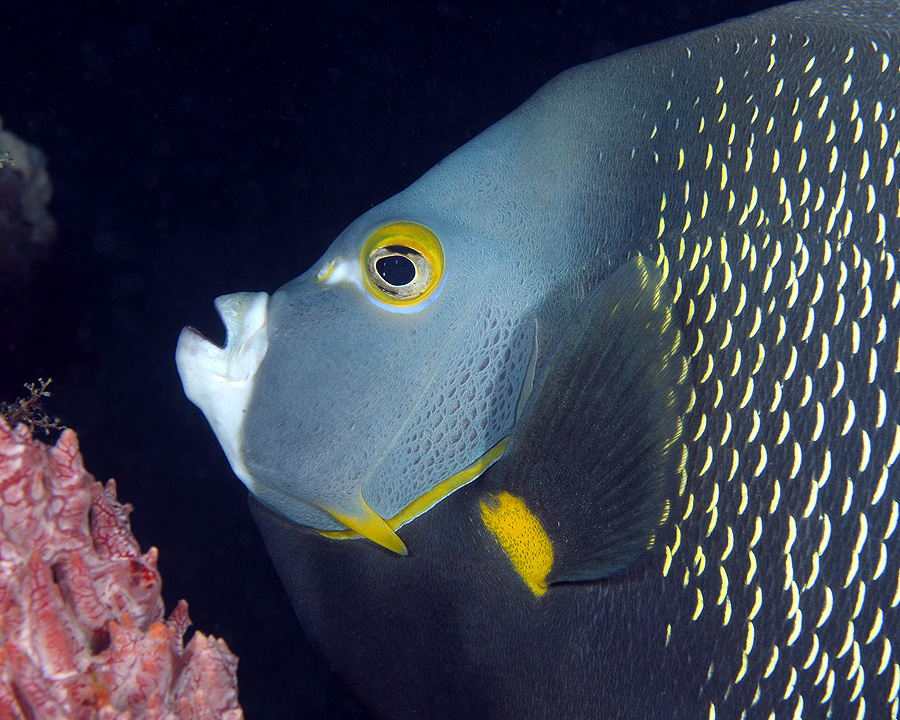Pomacanthus_paru: (130, 4, 900, 716)
